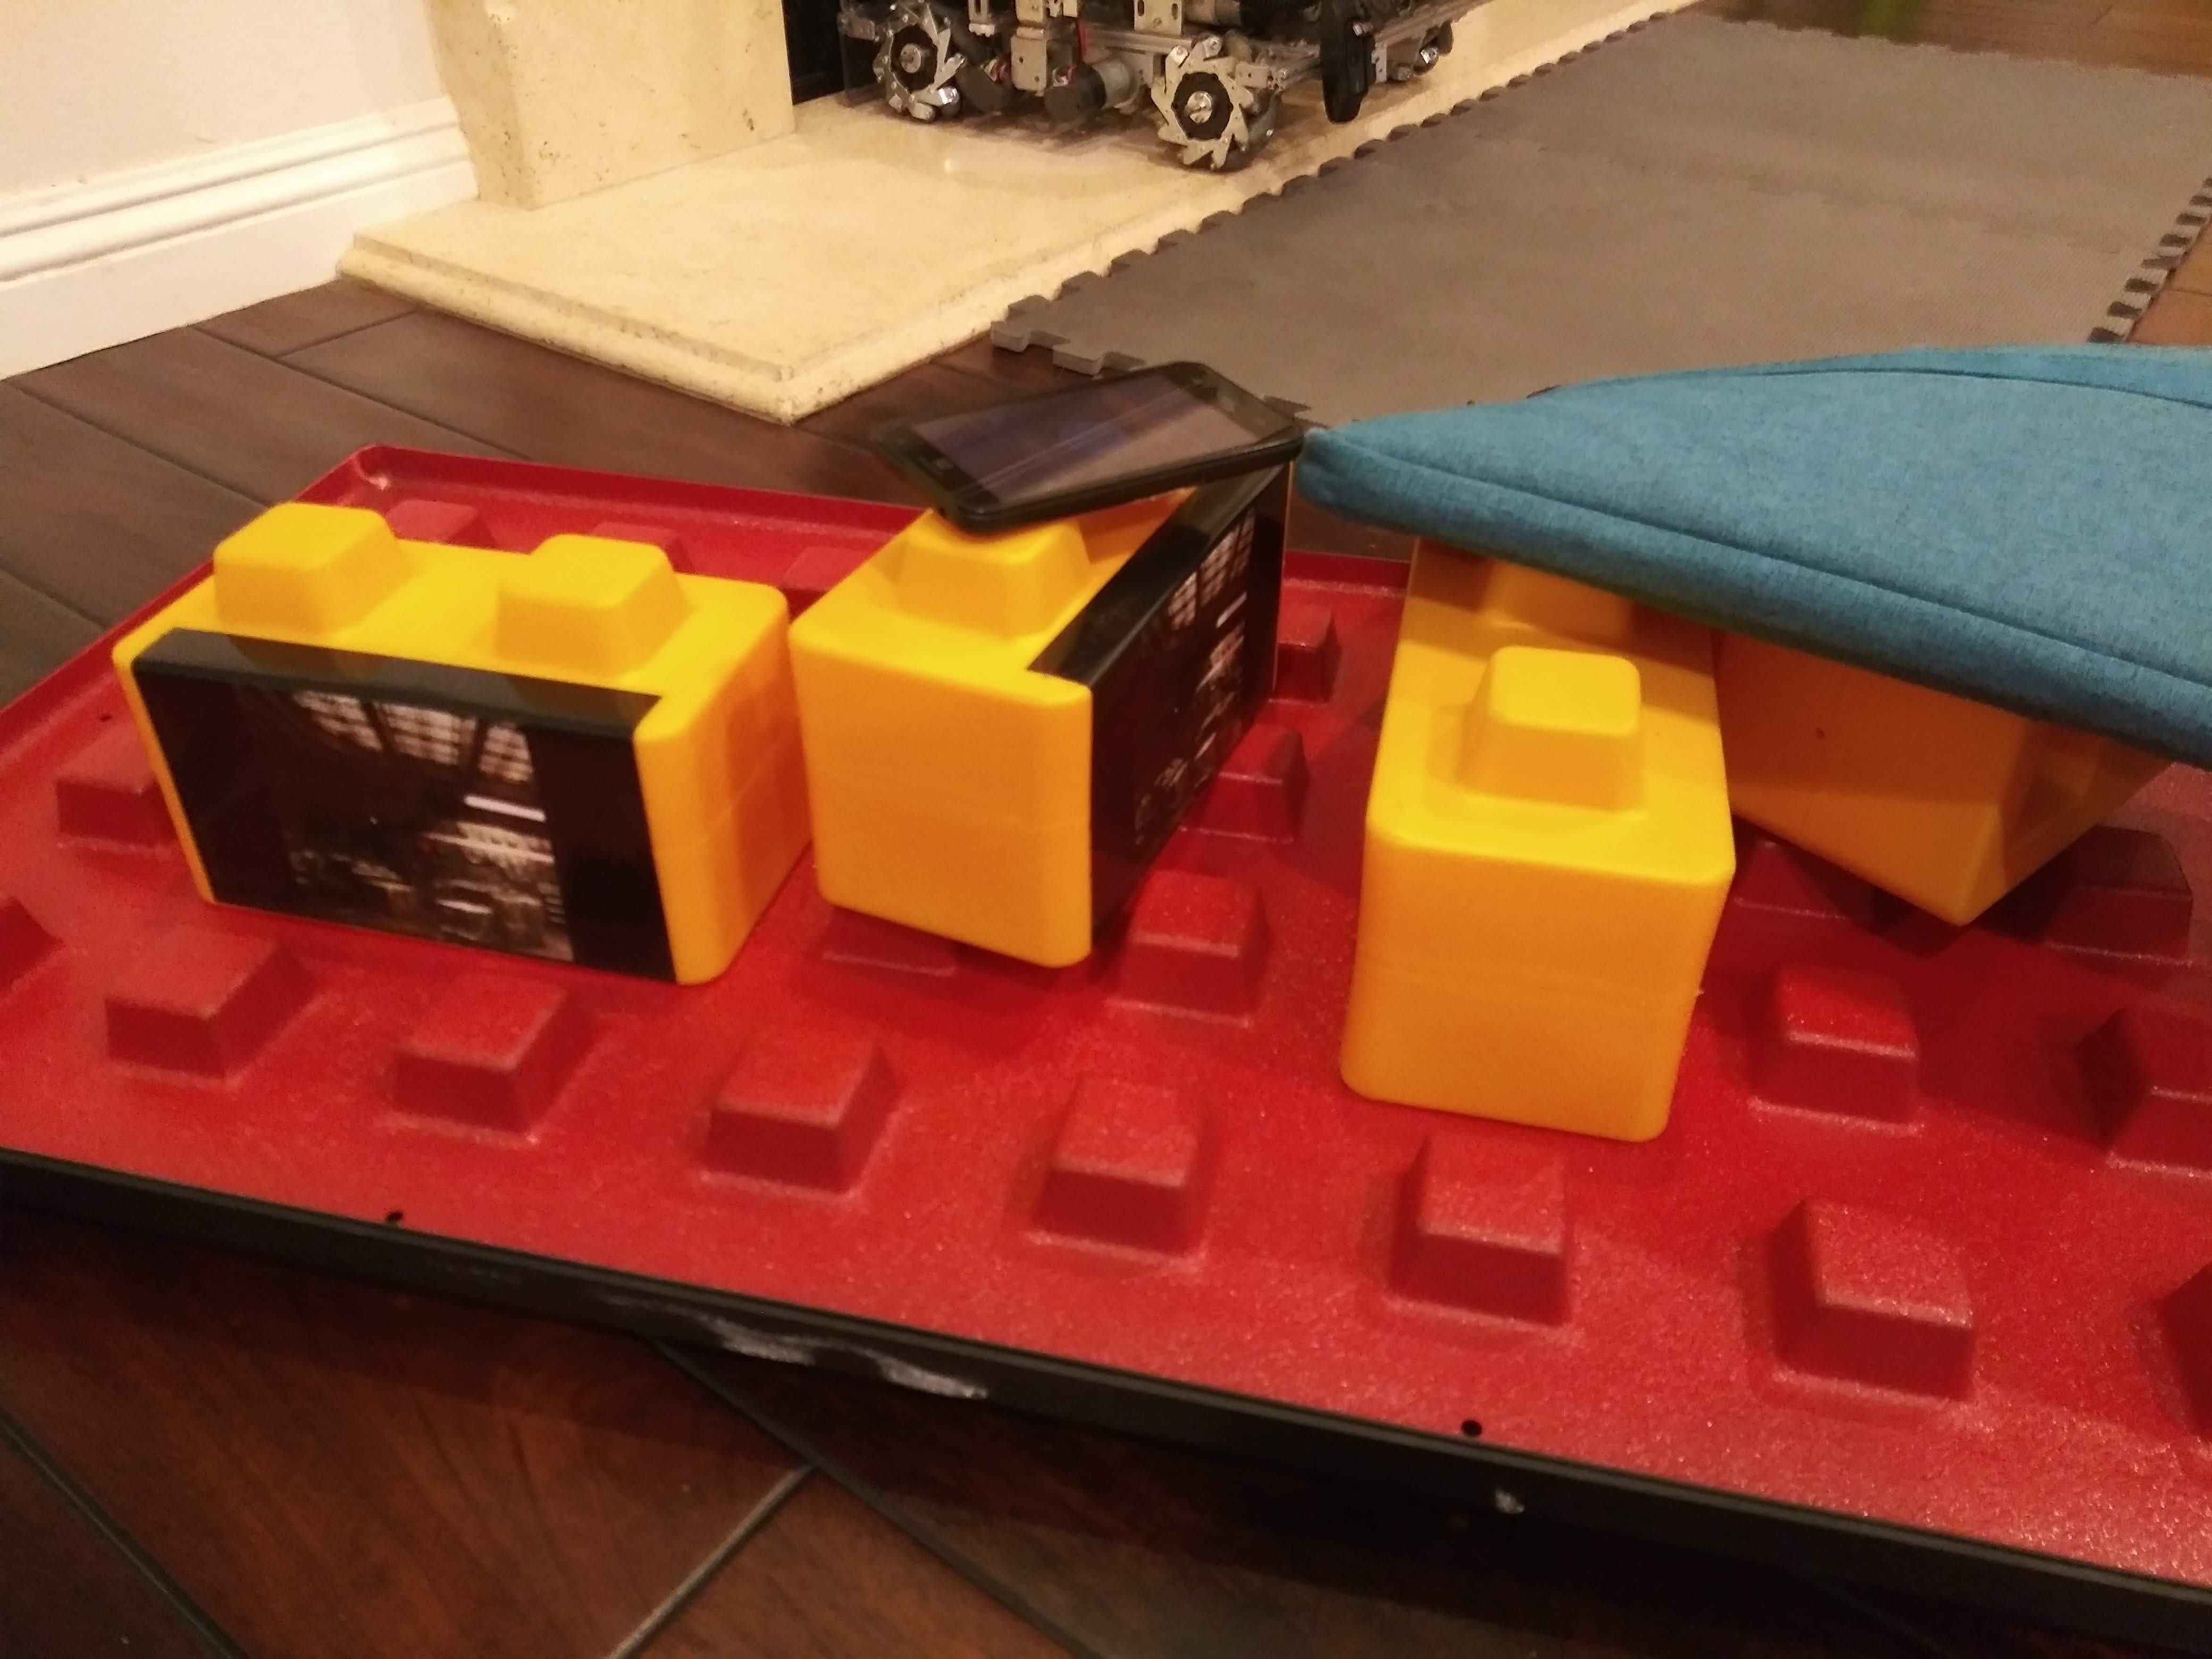skystone: (145, 573, 698, 978), (843, 528, 1275, 953)
stone: (1397, 592, 1698, 1161), (1791, 685, 2031, 917)
